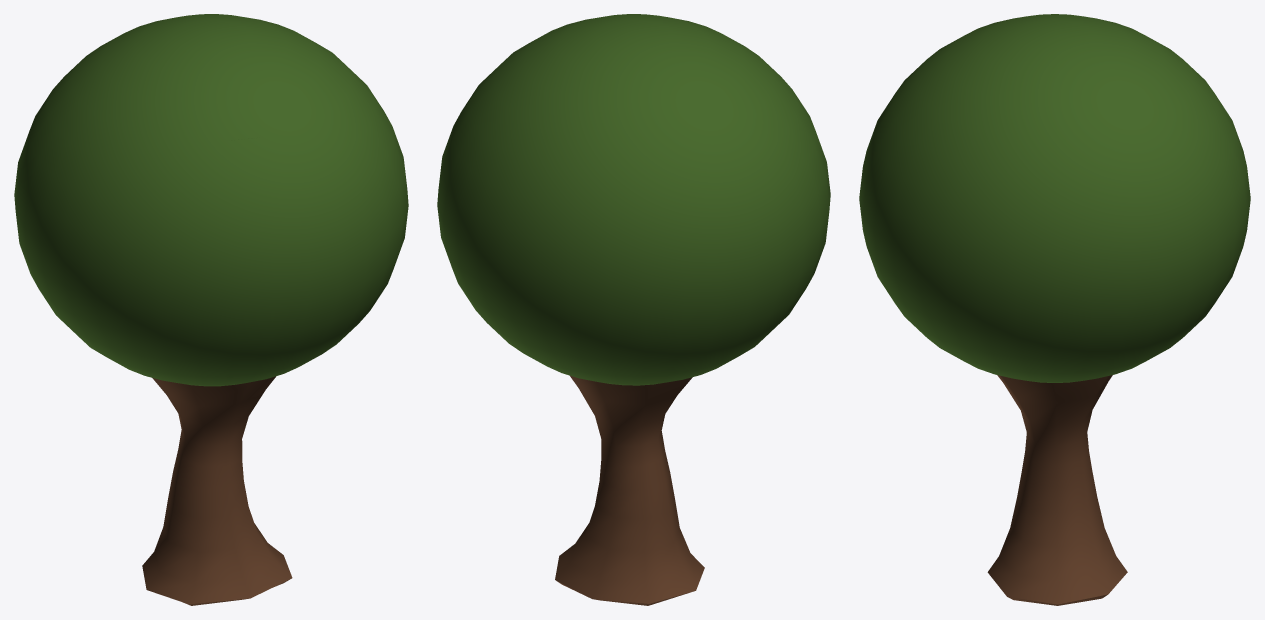
Rendered from Tree.fbx.
3 views of the same model, side by side, from view 1: azimuth 30°, elevation 25°; view 2: azimuth 150°, elevation 25°; view 3: azimuth 270°, elevation 25° (orthographic).
Visible parts, largest first — view 1: Tree; view 2: Tree; view 3: Tree.
Boxes of the visible parts, bbox=[...] form: Tree: bbox=[14, 14, 408, 605]; Tree: bbox=[437, 14, 830, 605]; Tree: bbox=[859, 14, 1250, 605].
Size of the model in its own units: 0.6331 by 0.9723 by 0.6331.
